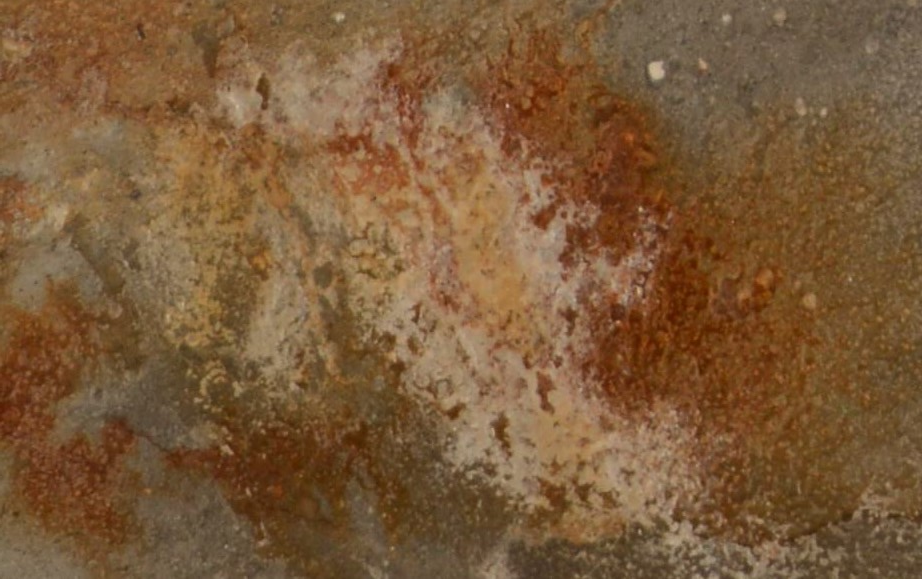Corrosion: (1, 1, 922, 579)
